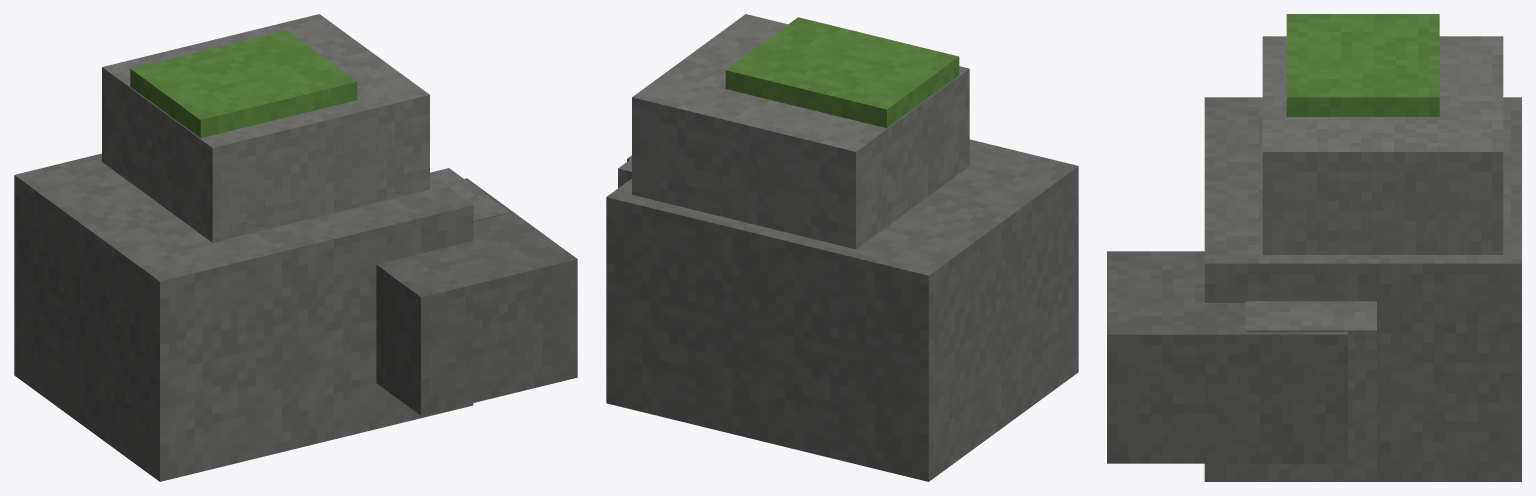
The model's file is rock_big.glb.
3 views of the same model, side by side, from view 1: azimuth 30°, elevation 25°; view 2: azimuth 150°, elevation 25°; view 3: azimuth 270°, elevation 25° (orthographic). The views are drawn at different scales.
Parts seen in each view (by area): view 1: Rock; view 2: Rock; view 3: Rock.
Boxes of the visible parts, x1,y1,x2,y2 form: Rock: [14, 14, 577, 481]; Rock: [606, 14, 1078, 481]; Rock: [1107, 14, 1521, 481].
Bounding box in the file's own units: 2.14 × 1.73 × 1.9.
Materials: 7 (7 with a texture image).
